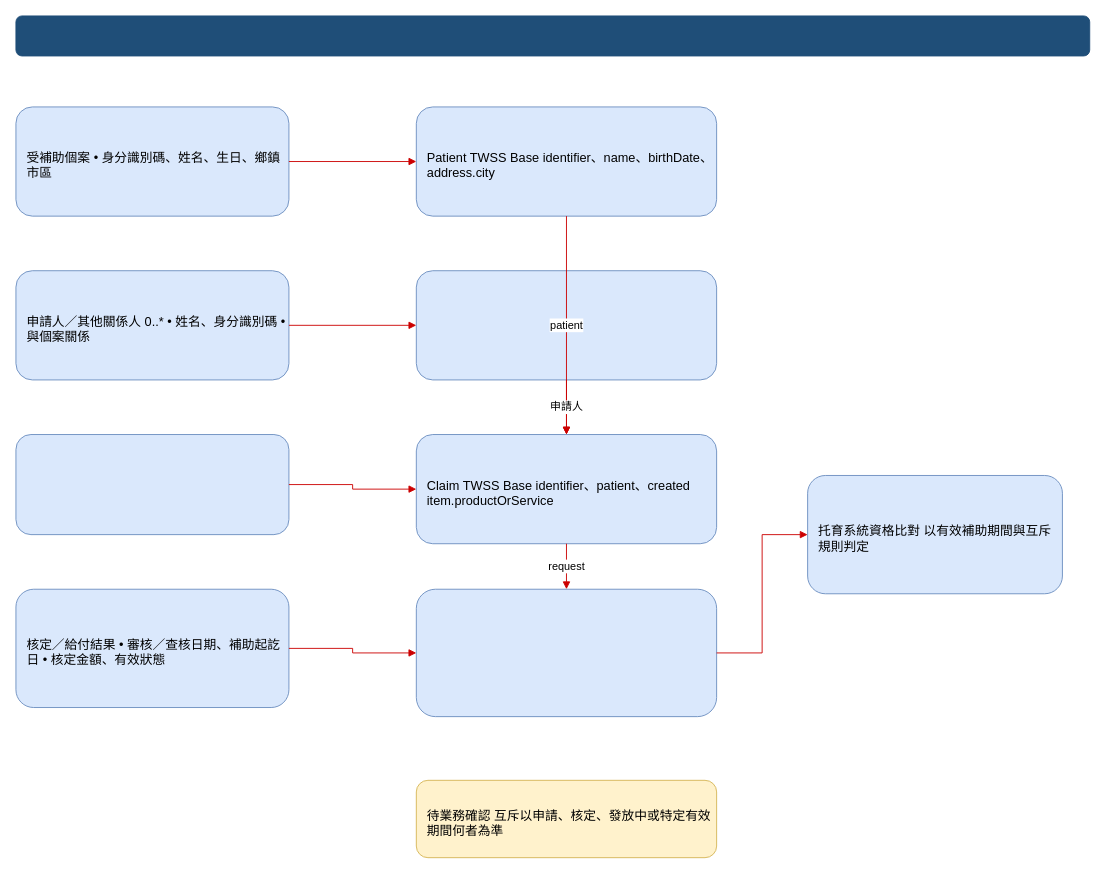
This 1106x874 diagram has some shape labels left out. The box of each missing label's shape, as (x1, y1, x2, y2) in pixels:
ClaimResponse TWSS Base request → Claim created、adjudication、subsidyPeriod: (415, 588, 717, 717)
RelatedPerson TWSS Base 0..* patient → Patient relationship、name、identifier: (415, 270, 717, 380)
育兒津貼 → 托育：補助資格互斥比對（視覺化邏輯模型草稿）: (15, 15, 1090, 56)
補助申請 • 申請案號、申請日期 • 補助項目: (15, 434, 289, 535)
